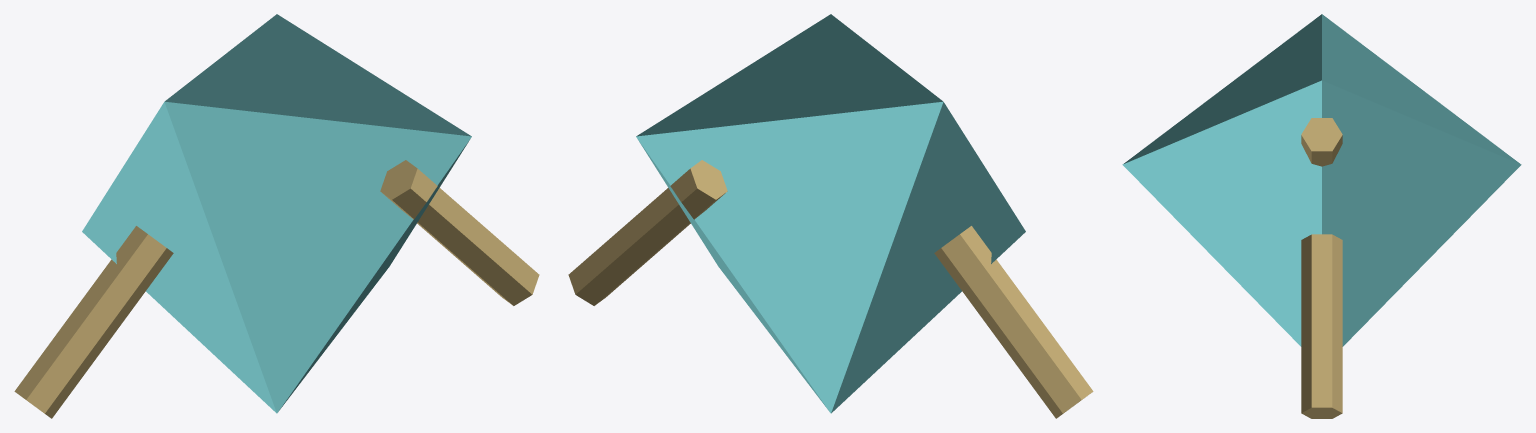
File: loot_soul_crystal.glb
3 views of the same model, side by side, from view 1: azimuth 30°, elevation 25°; view 2: azimuth 150°, elevation 25°; view 3: azimuth 270°, elevation 25° (orthographic). The views are drawn at different scales.
Parts seen in each view (by area): view 1: soul_crystal, gold_mount_l, gold_mount_r; view 2: soul_crystal, gold_mount_l, gold_mount_r; view 3: soul_crystal, gold_mount_r, gold_mount_l.
Boxes of the visible parts, left/top/right/bottom form: soul_crystal: left=82, top=14, right=471, bottom=413; gold_mount_l: left=14, top=226, right=173, bottom=418; gold_mount_r: left=380, top=160, right=539, bottom=305; soul_crystal: left=636, top=14, right=1025, bottom=413; gold_mount_l: left=934, top=226, right=1093, bottom=418; gold_mount_r: left=568, top=160, right=727, bottom=305; soul_crystal: left=1122, top=14, right=1521, bottom=346; gold_mount_r: left=1301, top=234, right=1342, bottom=418; gold_mount_l: left=1301, top=118, right=1342, bottom=166.
Size of the model in its own units: 0.6316 by 0.47 by 0.48.
